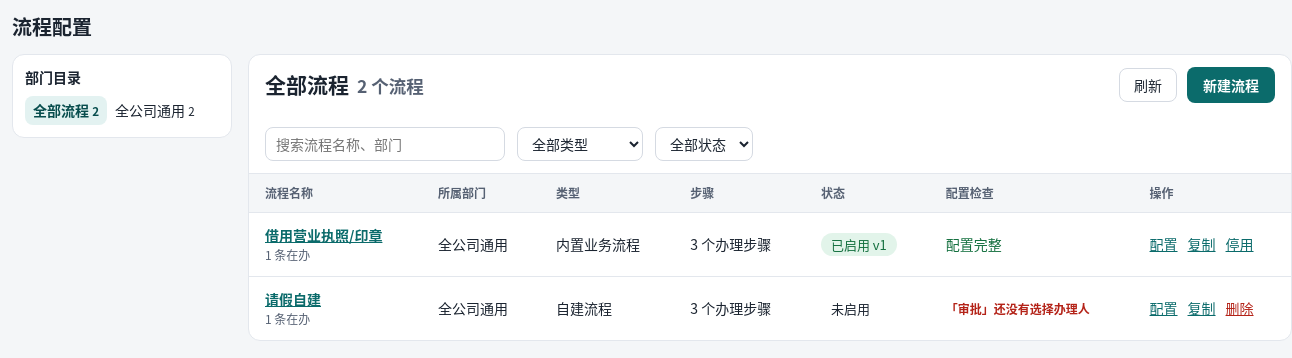
Scenario: 流程目录 › 列出流程与配置检查，可按名称搜索、按类型筛选，空结果可清除
The image size is (1292, 358).
Expected: the button "请假自建" is shown, [265, 289, 321, 310]
Expected: the list item "「审批」还没有选择办理人" is shown, [946, 300, 1090, 316]
Type "不存在" into the search field labelled "搜索流程" at (385, 144), box [265, 127, 505, 161]
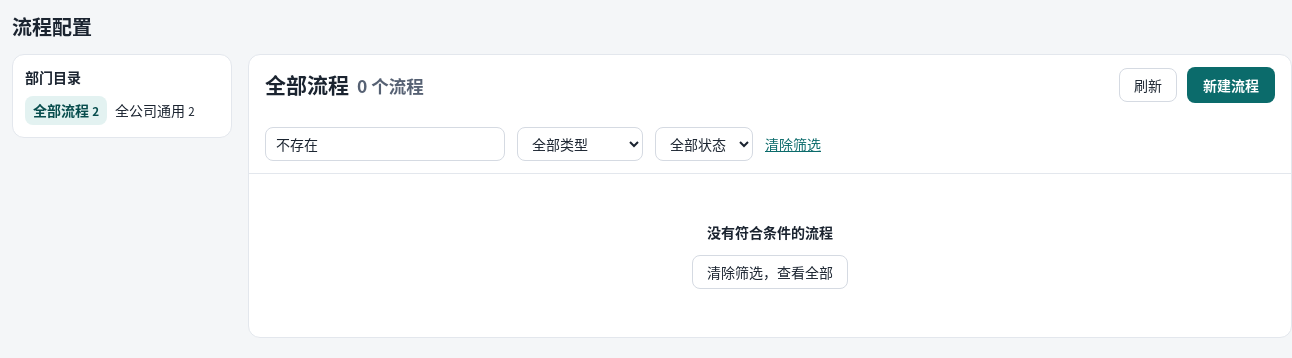
Expected: the text "没有符合条件的流程" is shown, [707, 222, 833, 243]
Click the button "清除筛选，查看全部" at (770, 272), box [692, 255, 848, 289]
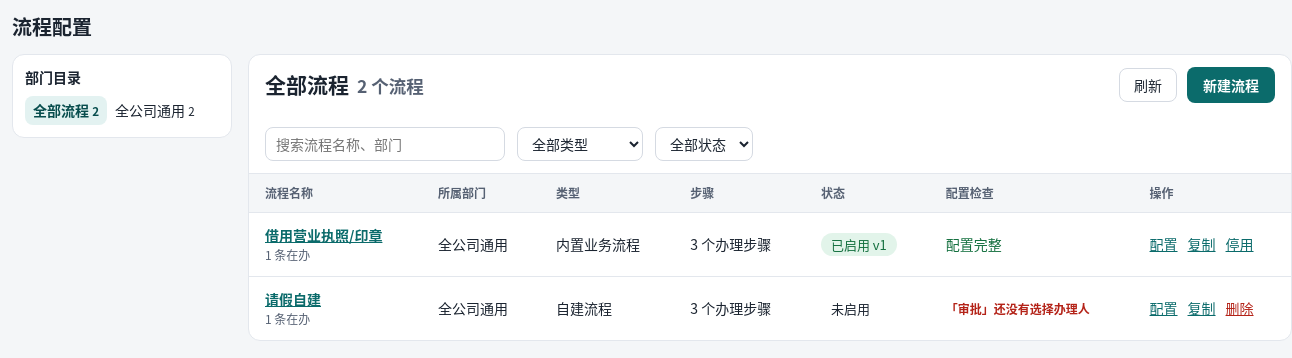
Select "自建流程" in the dropdown named "流程类型" at (580, 144), box [517, 127, 643, 161]
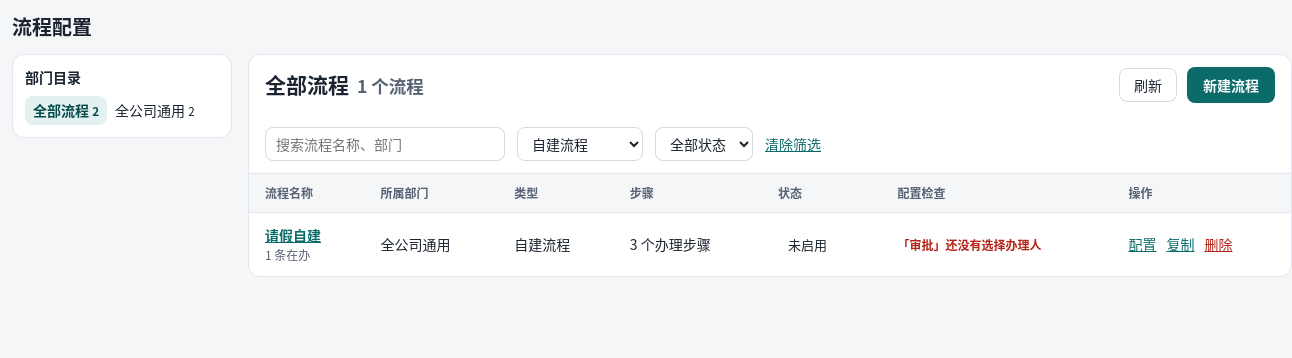
Expected: the button "请假自建" is shown, [265, 225, 321, 246]
Expected: the button "借用营业执照/印章" is gone
